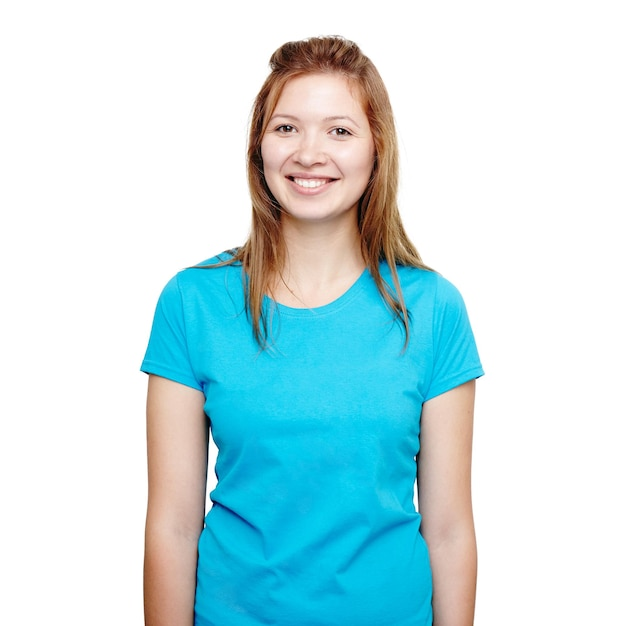teen: (236, 40, 419, 263)
